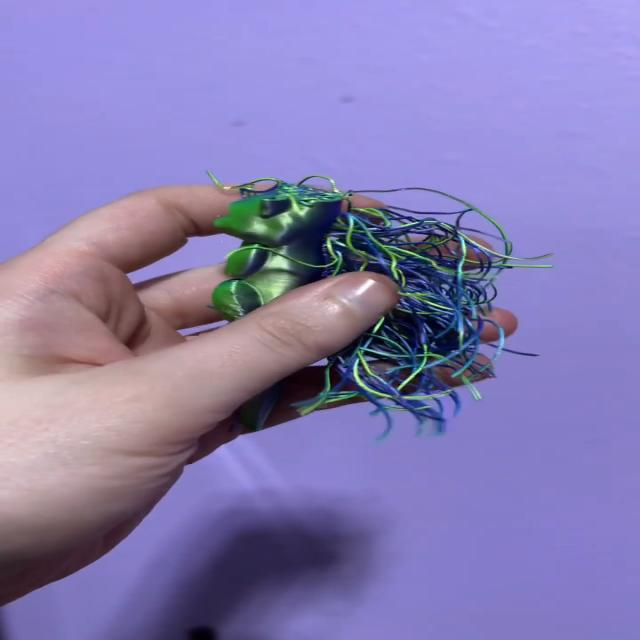spaghetti: (226, 126, 509, 442)
